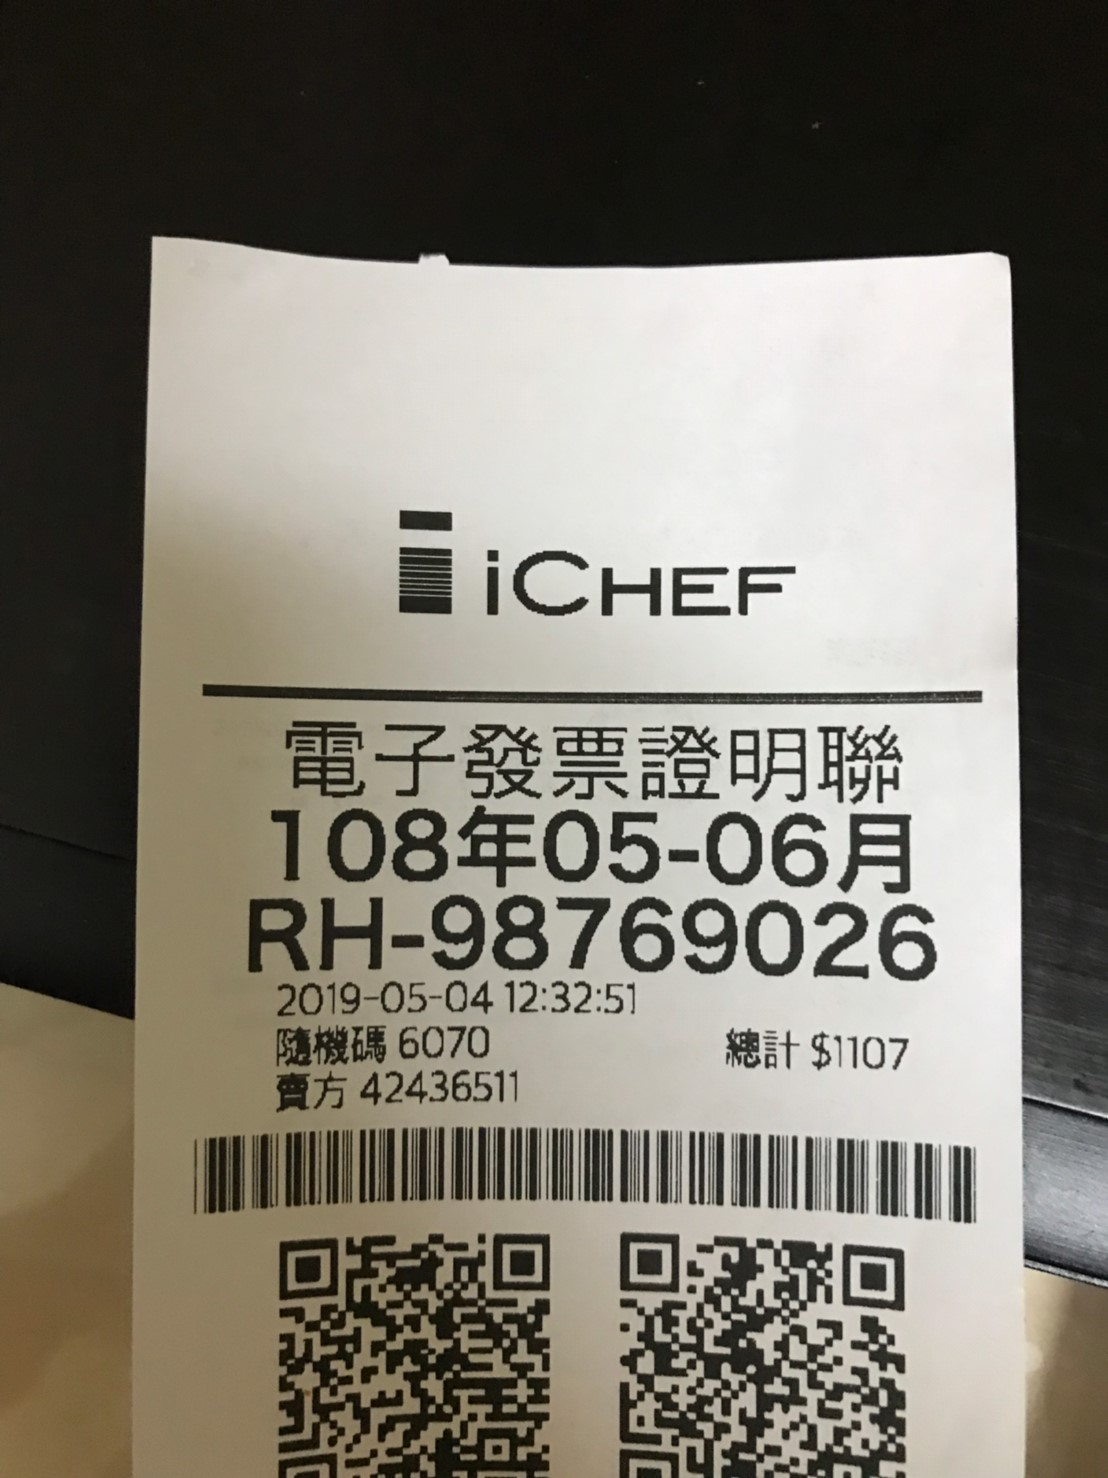Date_New: (267, 801, 917, 894)
Number_New: (428, 887, 946, 980)
